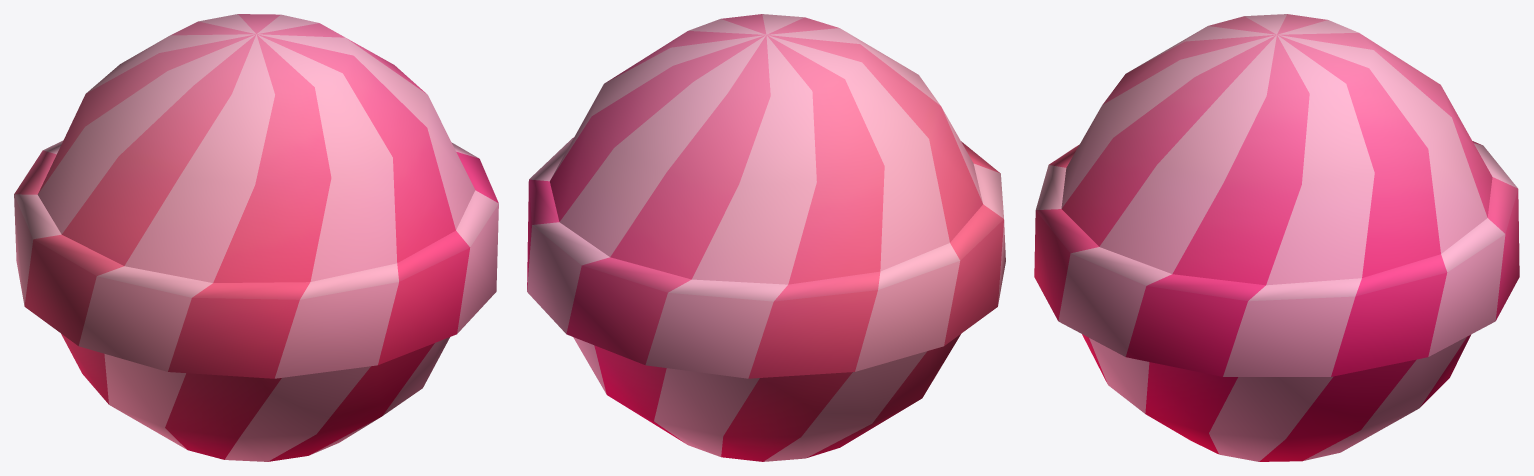
Rendered from candy.fbx.
The picture shows the model from 3 angles, left to right: view 1: azimuth 30°, elevation 25°; view 2: azimuth 150°, elevation 25°; view 3: azimuth 270°, elevation 25°; orthographic projection.
Visible parts, largest first — view 1: candy; view 2: candy; view 3: candy.
Boxes of the visible parts, x1,y1,x2,y2 form: candy: [14, 14, 498, 461]; candy: [527, 14, 1005, 461]; candy: [1034, 14, 1519, 461].
Size of the model in its own units: 3.57 by 3.33 by 3.6.
